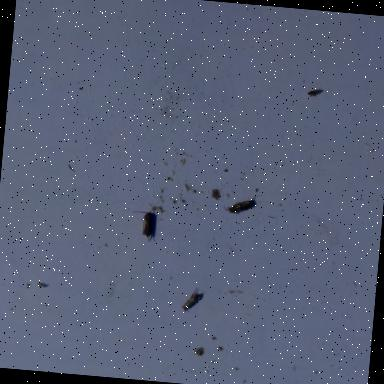pbw: (128, 210, 154, 242), (222, 194, 258, 216), (180, 286, 202, 314)
